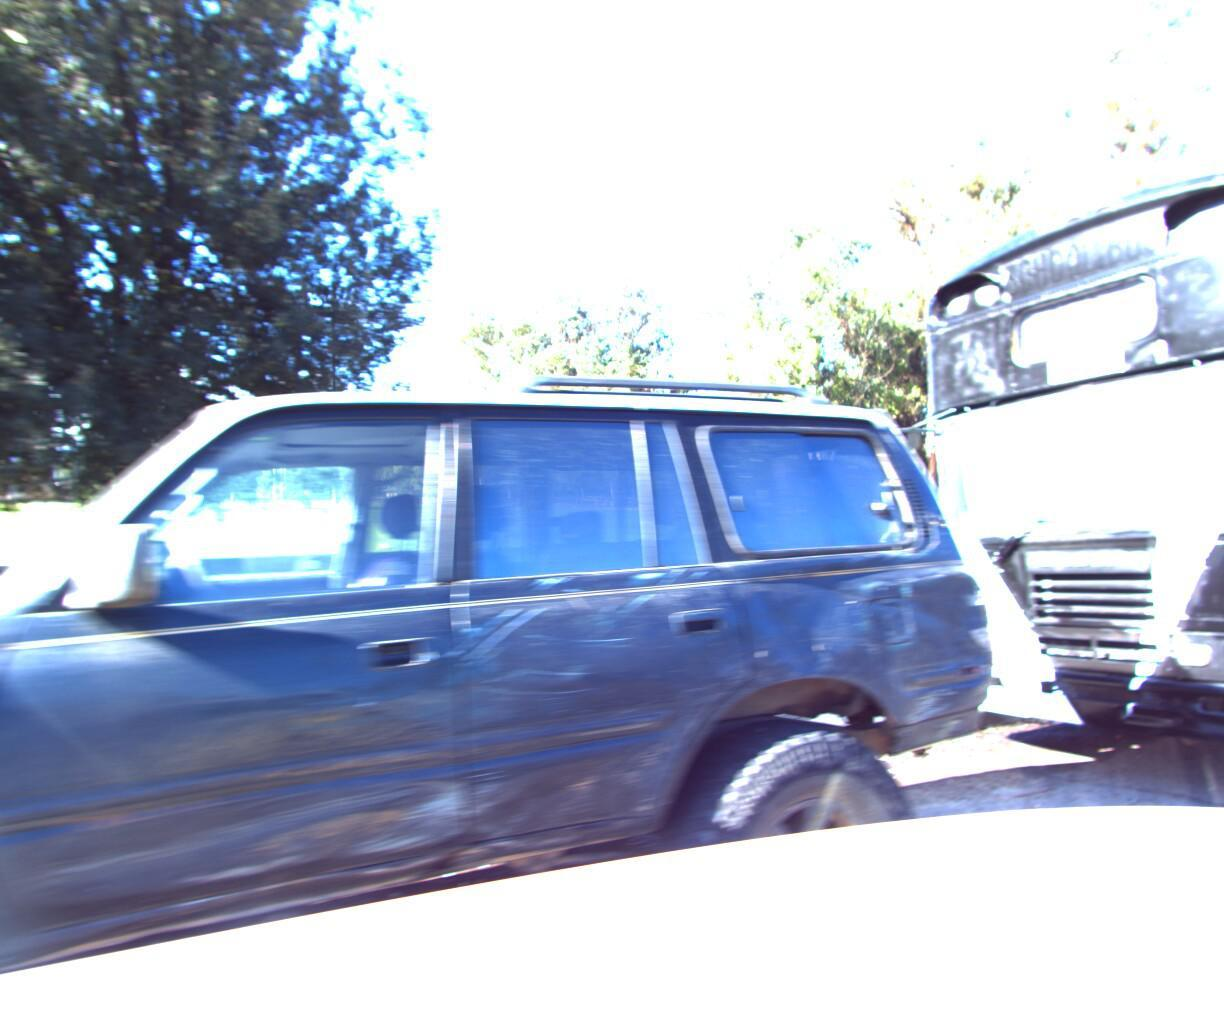bus: (850, 0, 1224, 905)
car: (0, 95, 1046, 1024)
